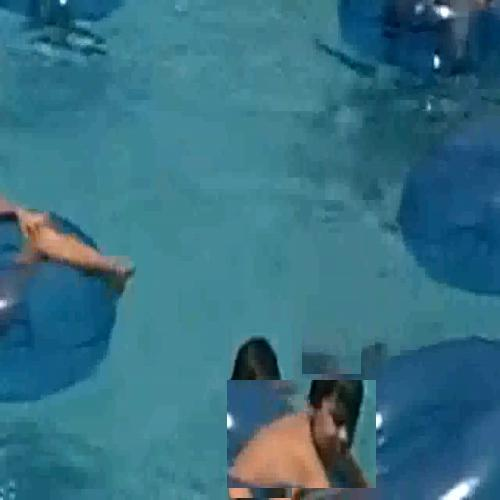drowning: (302, 322, 363, 375)
swimming: (0, 164, 108, 326), (227, 380, 377, 489), (229, 329, 293, 499)
